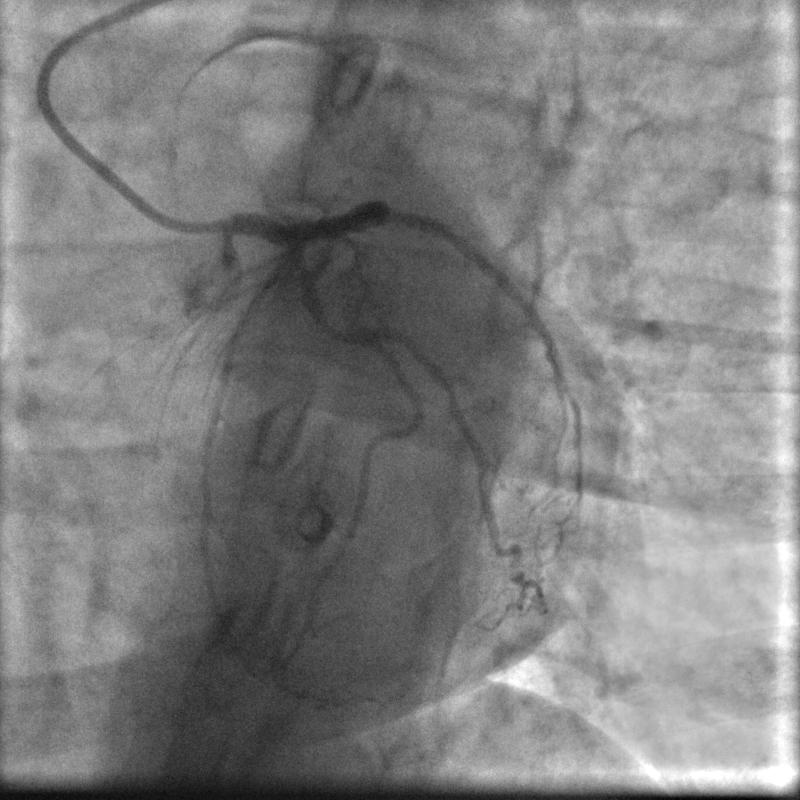Stenosis: (309, 313, 366, 347)
